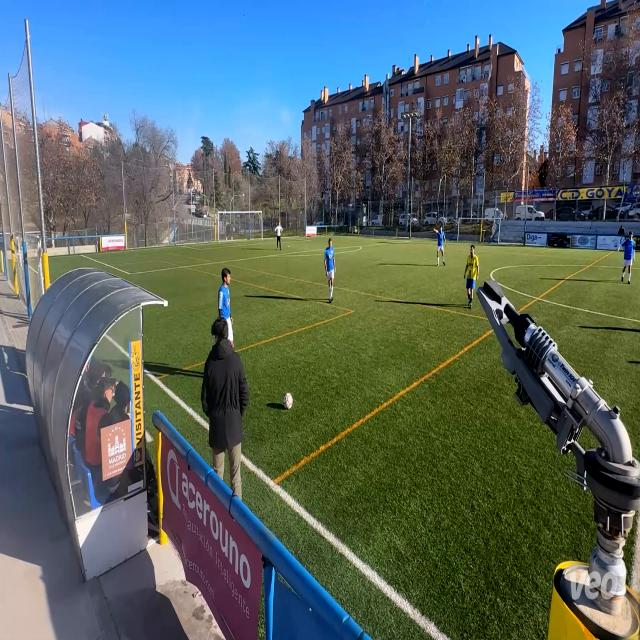bigarea_bottom_inner: (124, 265, 136, 281)
bigarea_bottom_outter: (77, 252, 87, 258)
bigarea_top_inner: (406, 237, 414, 246)
bottom_arc_area_intersection: (267, 250, 276, 262)
smallarea_bottom_inner: (198, 246, 202, 253)
smallarea_bottom_outter: (179, 243, 185, 249)
smallarea_top_inner: (308, 237, 314, 244)
top_arc_area_intersection: (356, 242, 365, 249)
